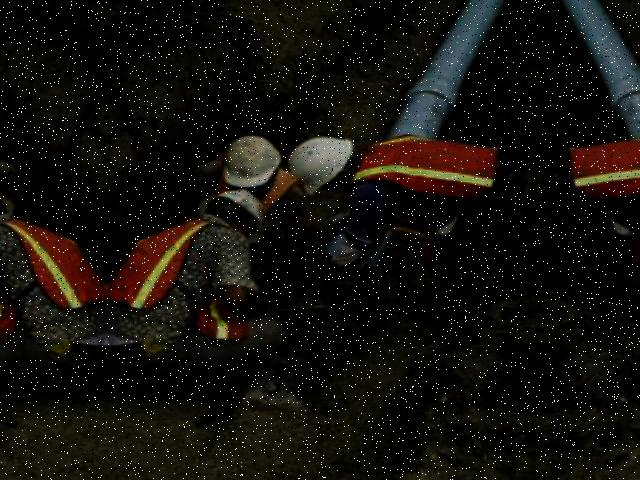Helmet: (282, 131, 360, 197), (194, 185, 272, 240), (216, 132, 282, 193)
